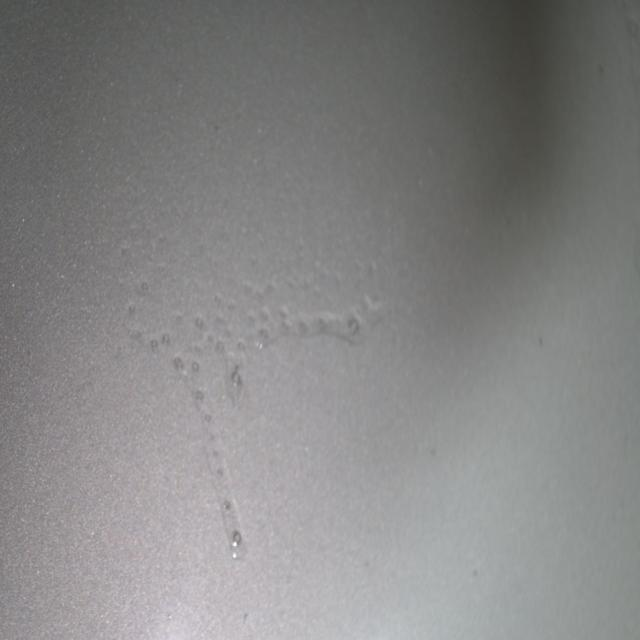dirt: (537, 329, 548, 350), (429, 444, 437, 457), (472, 567, 481, 578)
runs: (105, 250, 396, 565)
